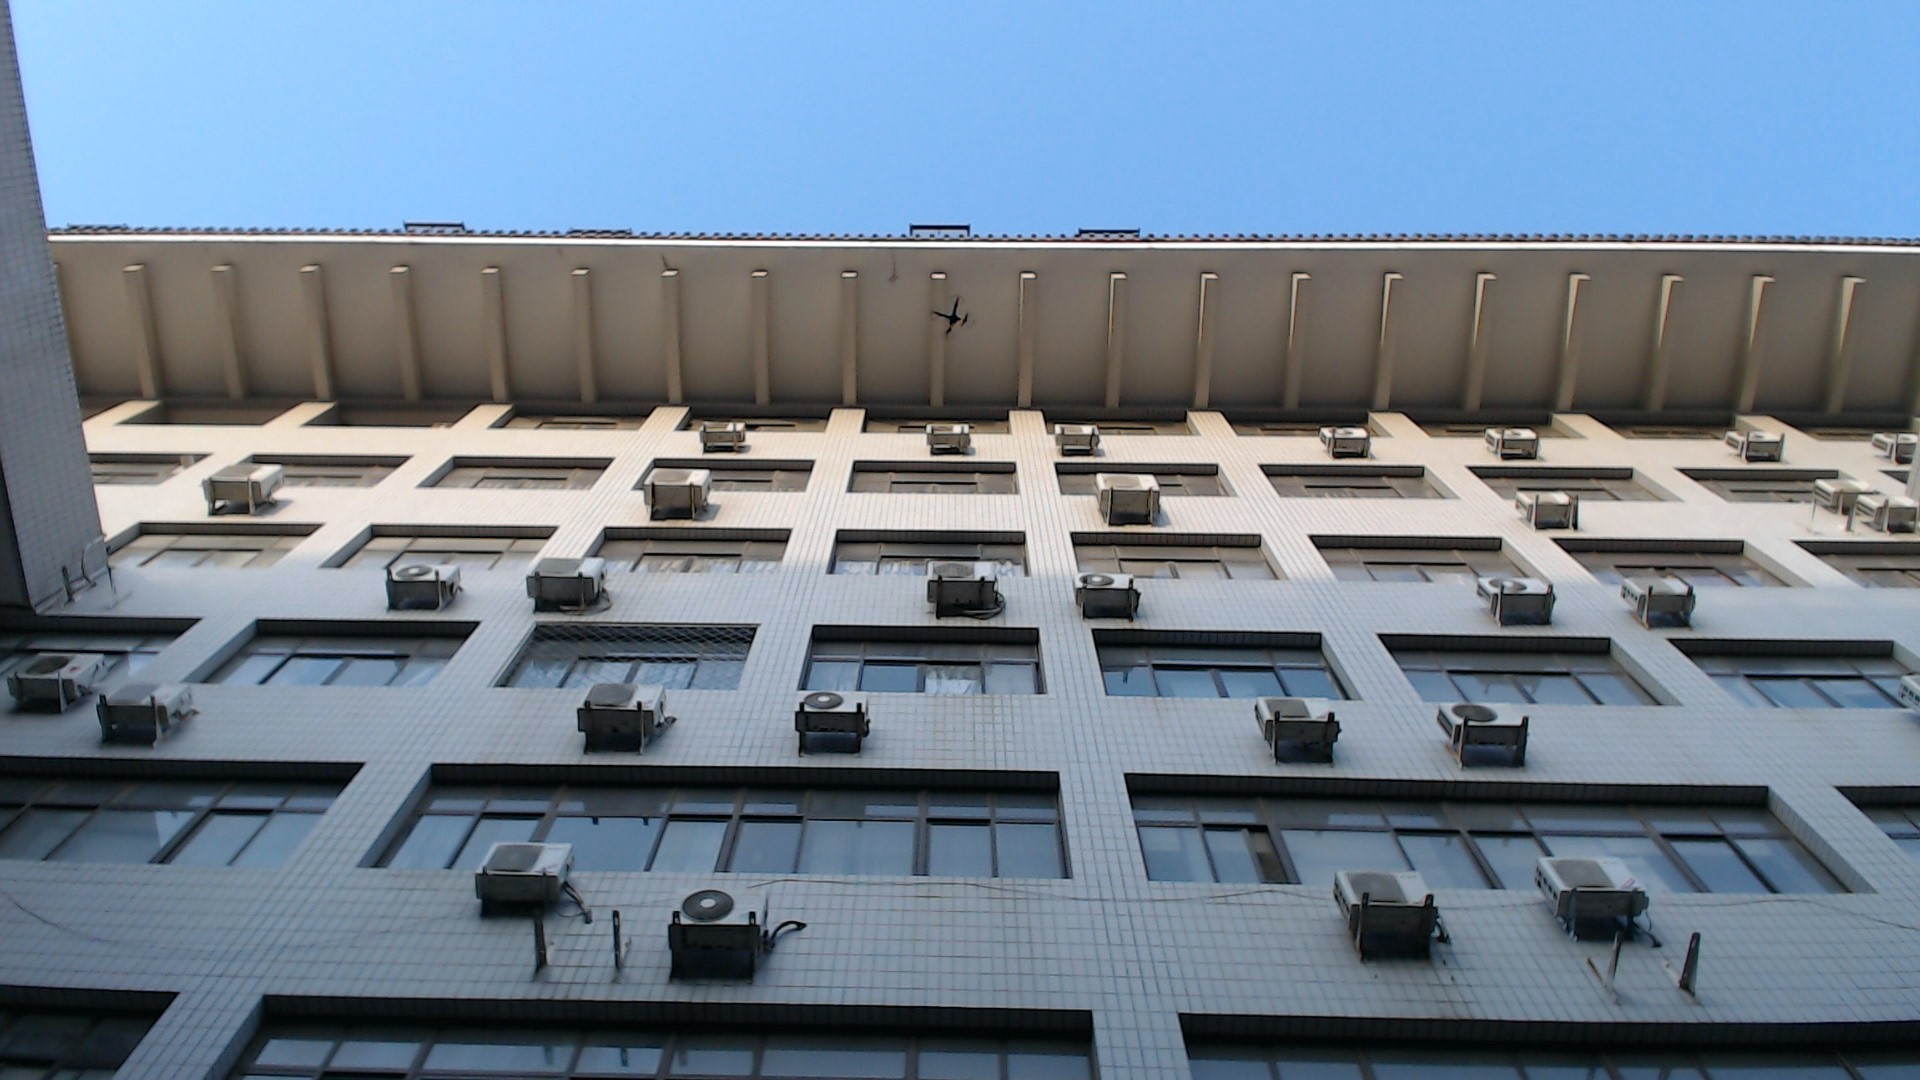drone: (926, 291, 981, 343)
